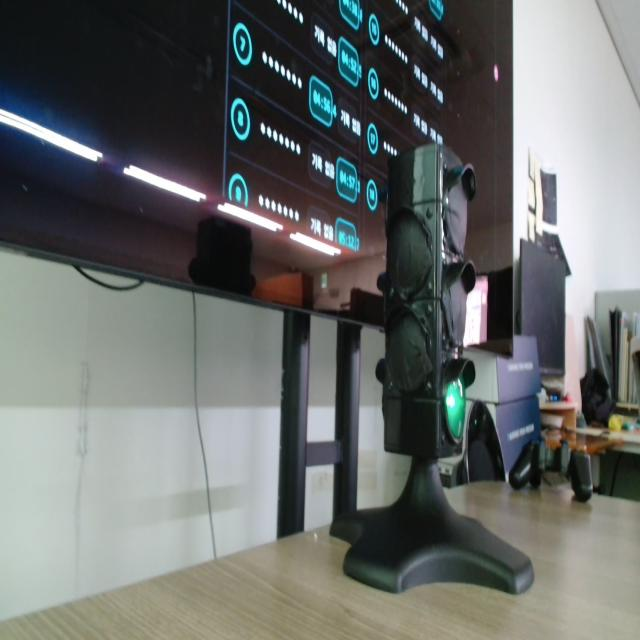green_light: (446, 379, 465, 441)
